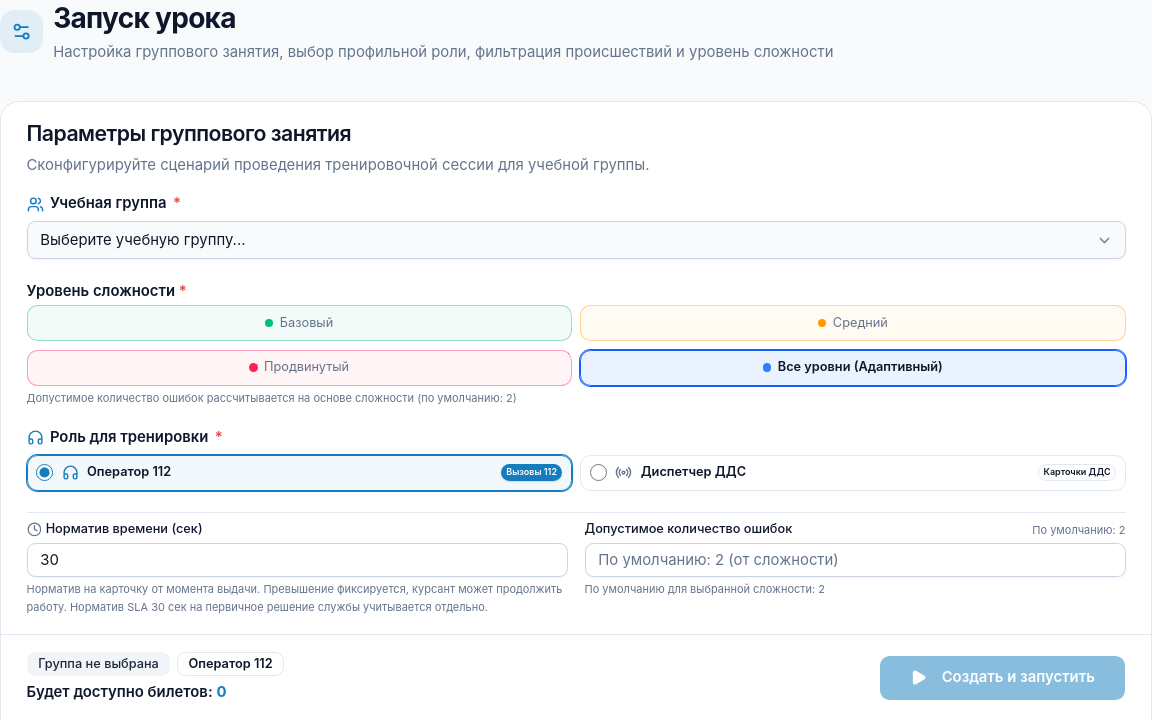
Test: ТЗ 41: Запуск урока (Создание сессии) - Настройка и UI › should handle API errors gracefully
Select "Группа 101 (Отделение связи) (2 чел.)" in the dropdown named "Выбор Группы": (576, 240) [26, 221, 1126, 259]
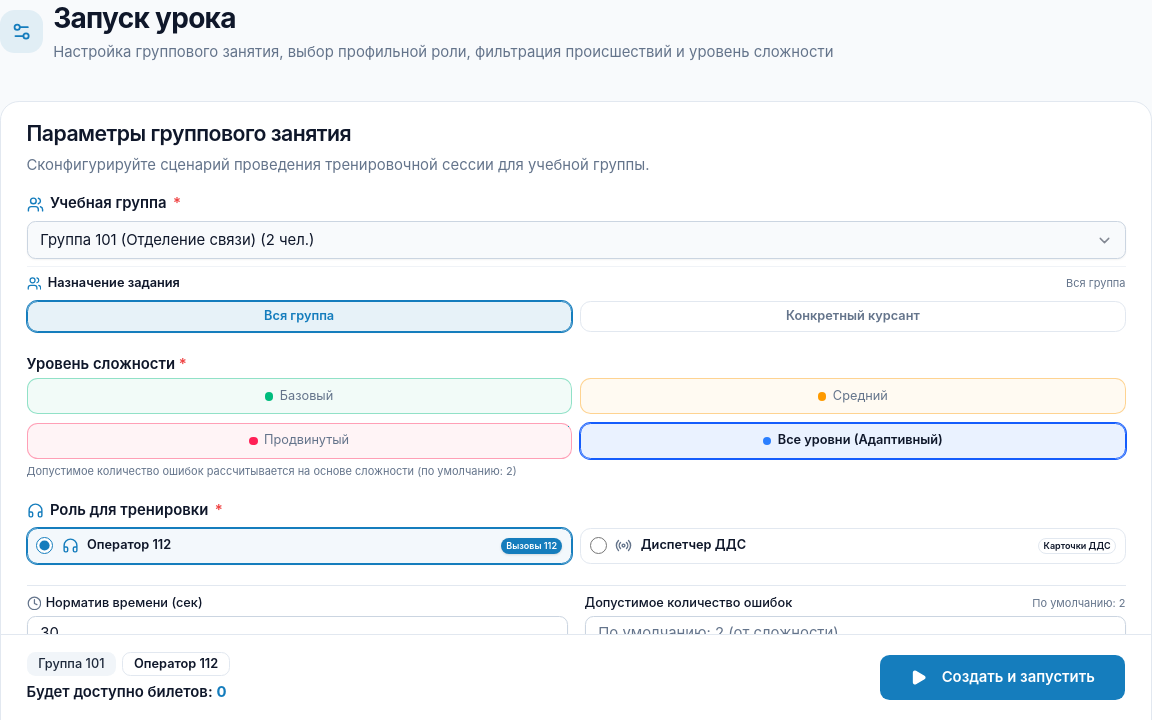
Click the button "Создать и запустить": (1002, 678) [879, 654, 1126, 701]
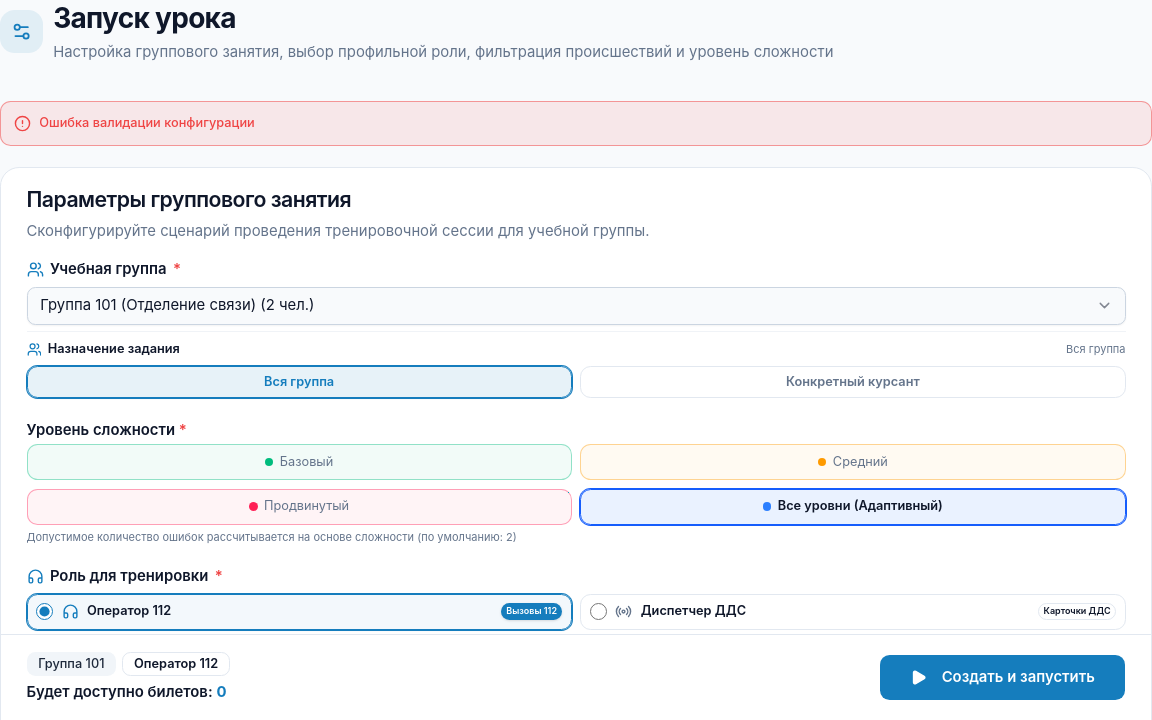
Check: the text "Ошибка валидации конфигурации" is shown, box [39, 115, 255, 132]
